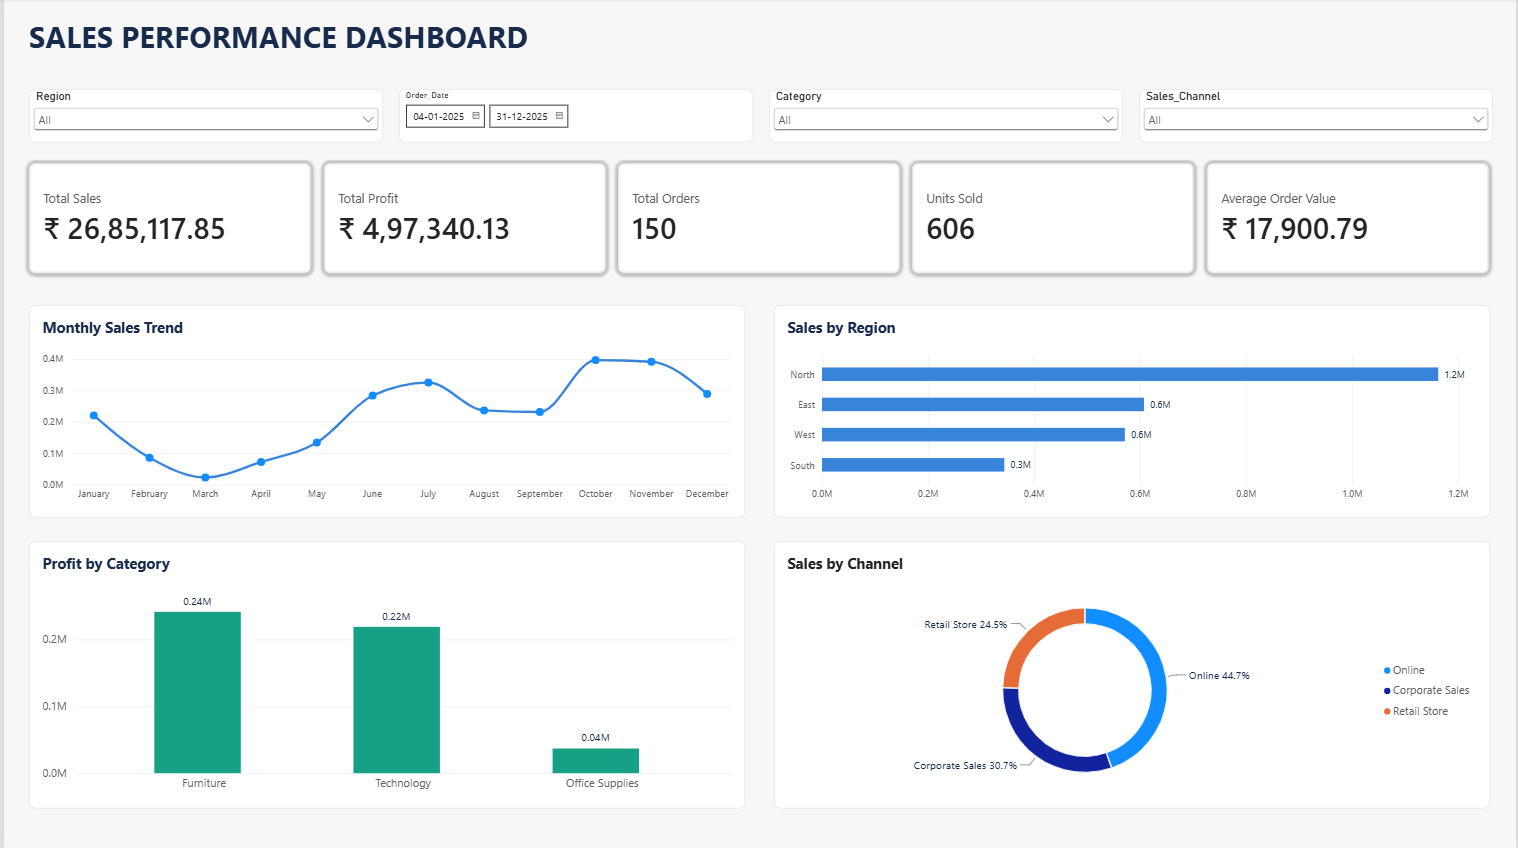

This screenshot's page, from the dashboard's own definition file:
{"tool":"powerbi","page":{"name":"Page 1","canvas":[1920,1080],"ordinal":0},"visuals":[{"type":"cardVisual","fields":{"Data":["Sum(SalesDataTable.Sales_INR)"]},"box":[32,210,358,140],"z":0},{"type":"cardVisual","fields":{"Data":["Sum(SalesDataTable.Profit_INR)"]},"box":[406,210,358,140],"z":1000},{"type":"cardVisual","fields":{"Data":["CountNonNull(SalesDataTable.Order_ID)"]},"box":[780,210,358,140],"z":2000},{"type":"cardVisual","fields":{"Data":["Sum(SalesDataTable.Quantity)"]},"box":[1154,210,358,140],"z":3000},{"type":"cardVisual","fields":{"Data":["Avg(SalesDataTable.Sales_INR)"]},"box":[1528,210,358,140],"z":4000},{"type":"textbox","box":[32,24,1856,72],"z":5000},{"type":"slicer","fields":{"Values":["SalesDataTable.Region"]},"box":[32,116,450,68],"z":6000},{"type":"slicer","fields":{"Values":["SalesDataTable.Category"]},"box":[972,116,450,68],"z":7000},{"type":"slicer","fields":{"Values":["SalesDataTable.Order_Date"]},"box":[502,116,450,68],"z":8000},{"type":"slicer","fields":{"Values":["SalesDataTable.Sales_Channel"]},"box":[1442,116,450,68],"z":9000},{"type":"lineChart","title":"Monthly Sales Trend","fields":{"Category":["SalesDataTable.Order_Date.Variation.Date Hierarchy.Month"],"Y":["Sum(SalesDataTable.Sales_INR)"]},"box":[32,390,910,270],"z":10000},{"type":"clusteredBarChart","title":"Sales by Region","fields":{"Category":["SalesDataTable.Region"],"Y":["Sum(SalesDataTable.Sales_INR)"]},"box":[978,390,910,270],"z":10001},{"type":"clusteredColumnChart","title":"Profit by Category","fields":{"Category":["SalesDataTable.Category"],"Y":["Sum(SalesDataTable.Profit_INR)"]},"box":[32,690,910,340],"z":10002},{"type":"donutChart","title":"Sales by Channel","fields":{"Category":["SalesDataTable.Sales_Channel"],"Y":["Sum(SalesDataTable.Sales_INR)"]},"box":[978,690,910,340],"z":10003}]}

Visuals, with their boxes in screenshot pixels (x1, y1, x2, y2), scaled from the page's 1920x1080 canvas onto the 1518x848 screenshot:
cardVisual - Sum(SalesDataTable.Sales_INR): x1=25, y1=165, x2=308, y2=275
cardVisual - Sum(SalesDataTable.Profit_INR): x1=321, y1=165, x2=604, y2=275
cardVisual - CountNonNull(SalesDataTable.Order_ID): x1=617, y1=165, x2=900, y2=275
cardVisual - Sum(SalesDataTable.Quantity): x1=912, y1=165, x2=1195, y2=275
cardVisual - Avg(SalesDataTable.Sales_INR): x1=1208, y1=165, x2=1491, y2=275
textbox: x1=25, y1=19, x2=1493, y2=75
slicer - SalesDataTable.Region: x1=25, y1=91, x2=381, y2=144
slicer - SalesDataTable.Category: x1=768, y1=91, x2=1124, y2=144
slicer - SalesDataTable.Order_Date: x1=397, y1=91, x2=753, y2=144
slicer - SalesDataTable.Sales_Channel: x1=1140, y1=91, x2=1496, y2=144
"Monthly Sales Trend" lineChart: x1=25, y1=306, x2=745, y2=518
"Sales by Region" clusteredBarChart: x1=773, y1=306, x2=1493, y2=518
"Profit by Category" clusteredColumnChart: x1=25, y1=542, x2=745, y2=809
"Sales by Channel" donutChart: x1=773, y1=542, x2=1493, y2=809
